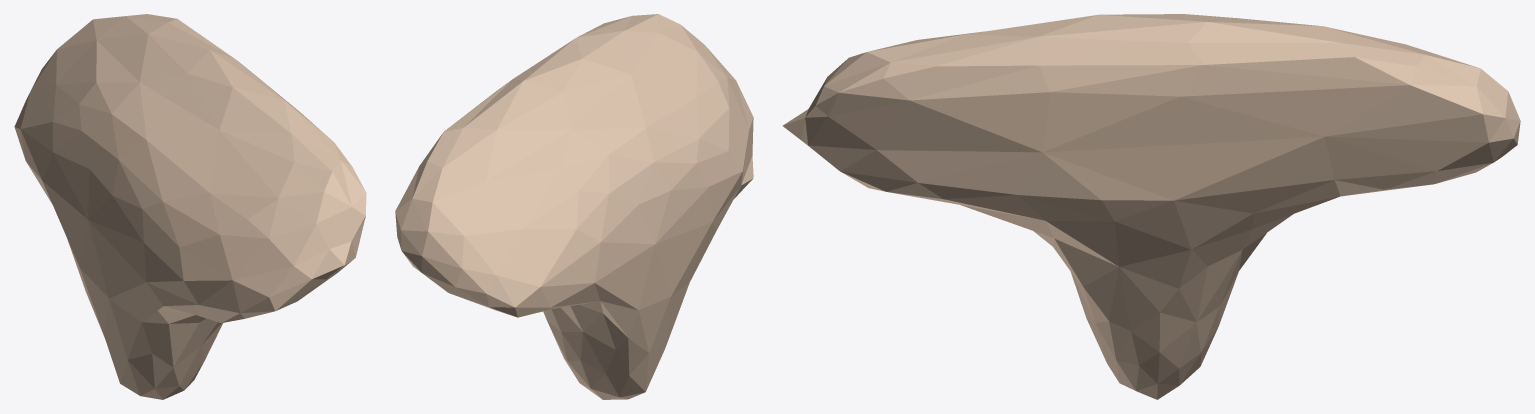
3 views of the same model, side by side, from view 1: azimuth 30°, elevation 25°; view 2: azimuth 150°, elevation 25°; view 3: azimuth 270°, elevation 25° (orthographic). The views are drawn at different scales.
Visible parts, largest first — view 1: 604.obj; view 2: 604.obj; view 3: 604.obj.
Part boxes in pixels (x1,y1,x2,y2): 604.obj: (14, 14, 366, 399); 604.obj: (395, 14, 753, 399); 604.obj: (782, 14, 1520, 399).
Bounding box in the file's own units: 345 × 636 × 1030.
